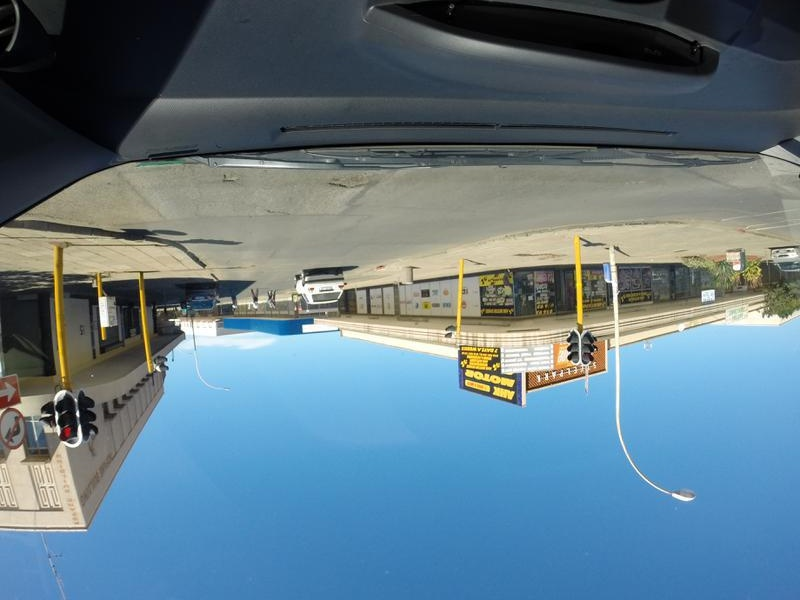pothole: (322, 172, 384, 200), (261, 205, 290, 221), (218, 169, 240, 188)
